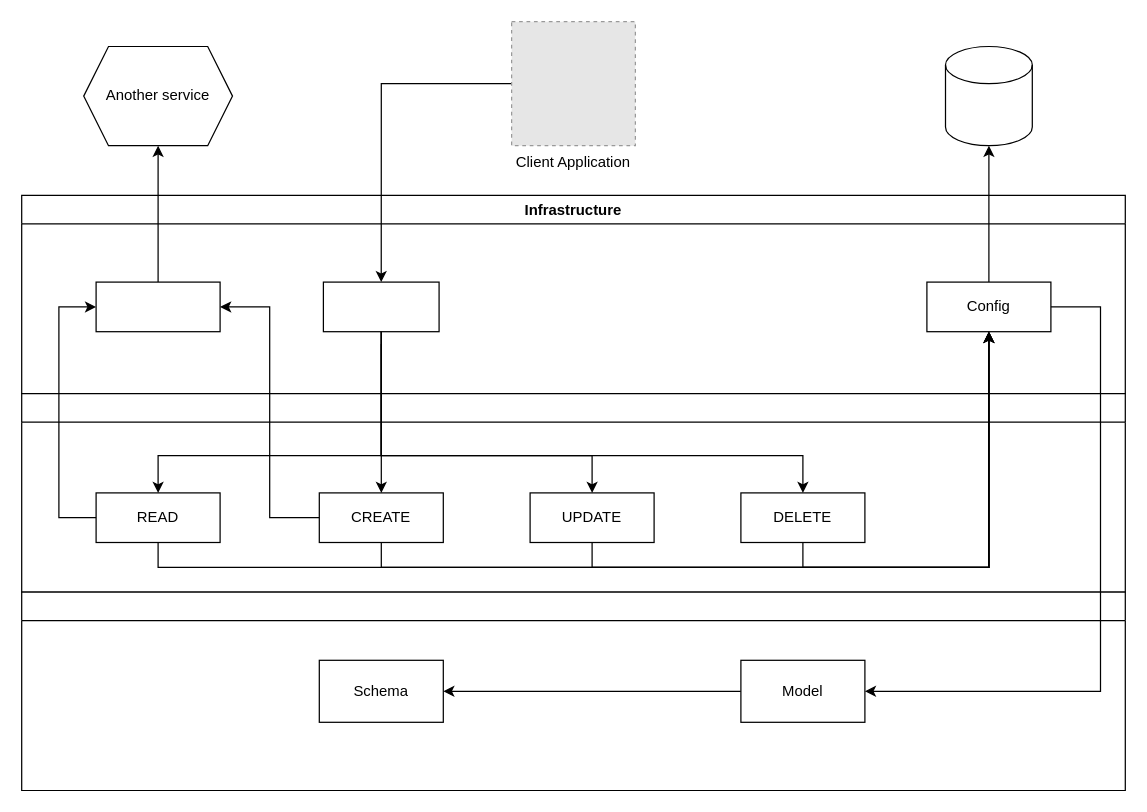
This 1147x812 diagram has some shape labels left out. Grey dashed boxes stand in for pictures. Each missing label, with the box of its shape:
Controller: (322, 281, 439, 332)
Database: (944, 45, 1032, 146)
Entity: (20, 591, 1125, 790)
Gateway: (95, 281, 220, 332)
Usecase: (20, 392, 1125, 592)
